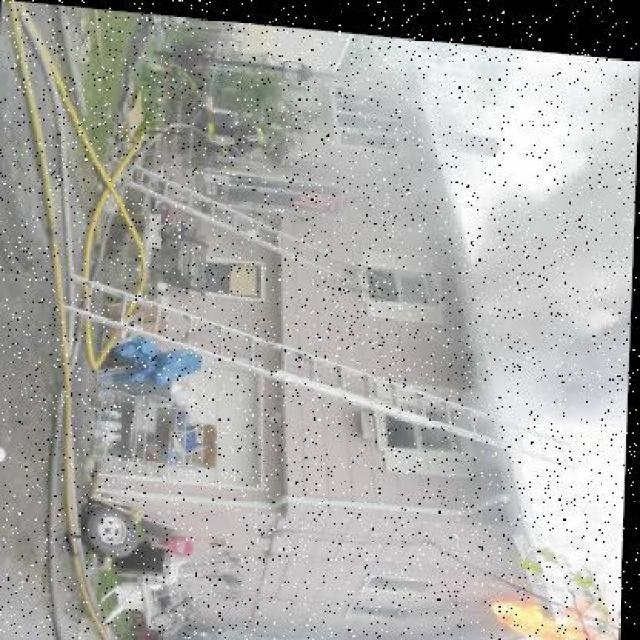fire: (484, 564, 626, 640)
